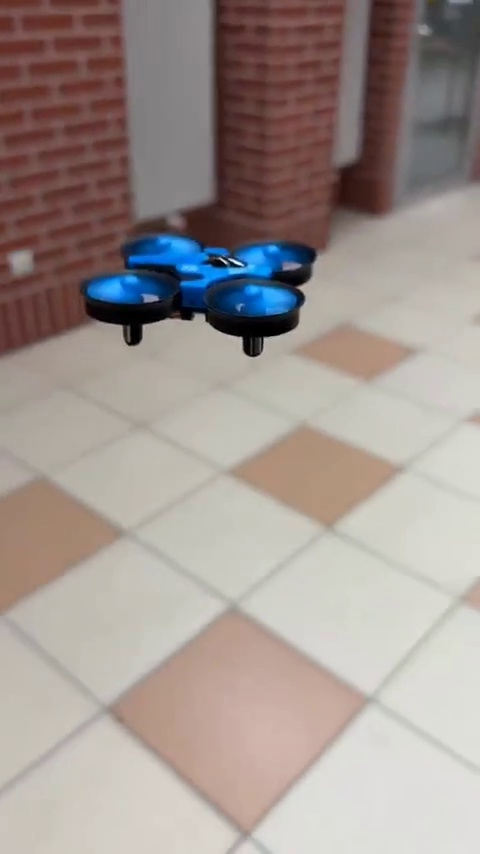drone: (78, 231, 319, 358)
